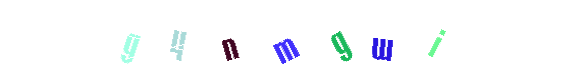4: (189, 0, 269, 80)
G: (118, 0, 198, 80), (294, 0, 374, 80)
I: (370, 0, 450, 80)
M: (263, 0, 343, 80)
N: (252, 0, 332, 80)
W: (301, 0, 381, 80)
